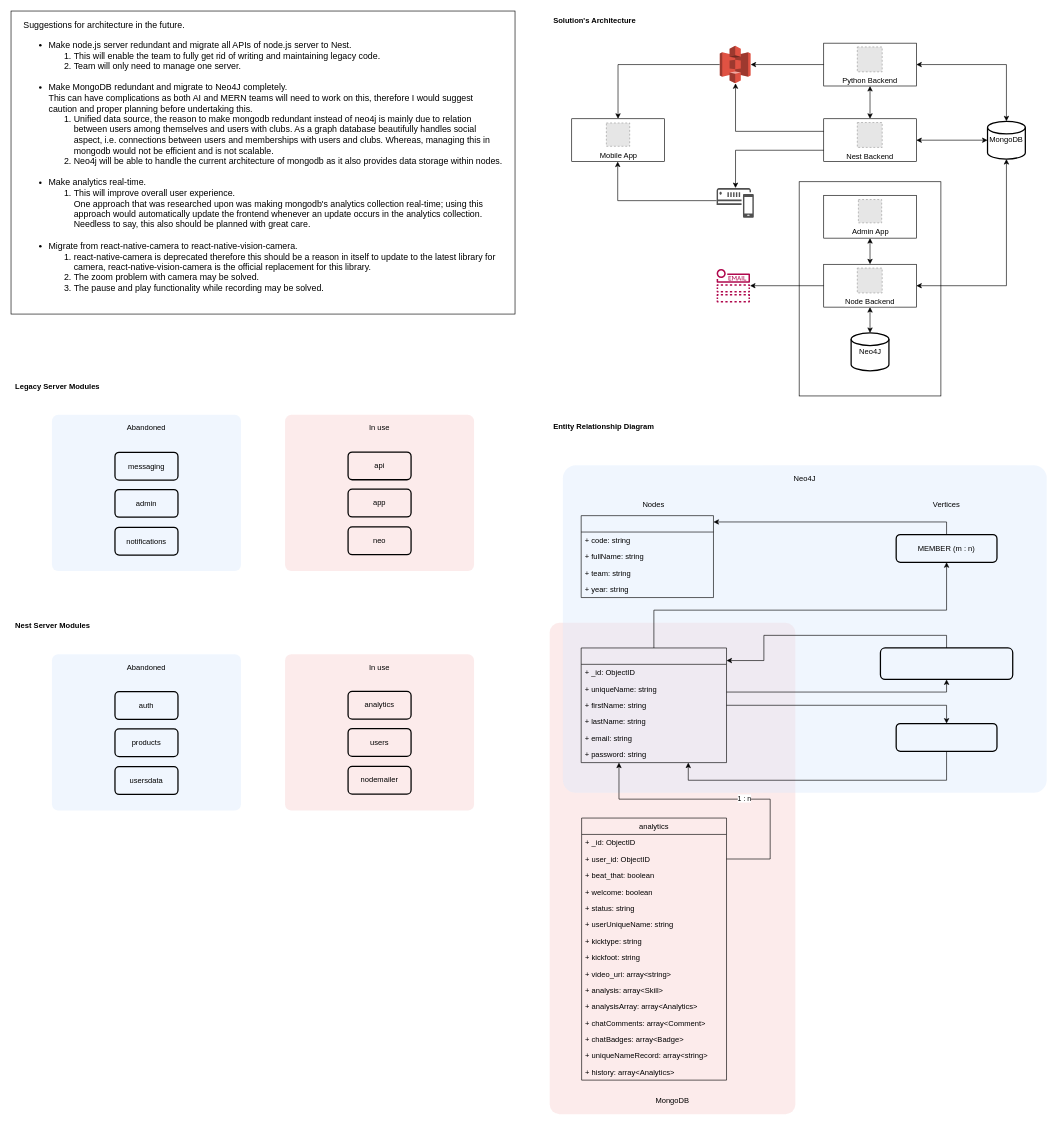
Some shapes in this 1058 by 1125 pixel diagram are drawn without their labels. Grey dashed boxes stand in for pictures. The box of each missing label's shape, as (x1, y1, x2, y2) in pixels:
AWS S3: (719, 45, 751, 83)
CONNECTION (m : n): (895, 723, 997, 752)
CONNECTION_REQUEST (m : n): (879, 647, 1013, 680)
Email Notifications: (716, 269, 750, 302)
Legacy Server: (799, 181, 941, 396)
Push Notifications: (716, 188, 753, 217)
RCC: (581, 515, 713, 598)
User / users: (581, 647, 727, 763)
